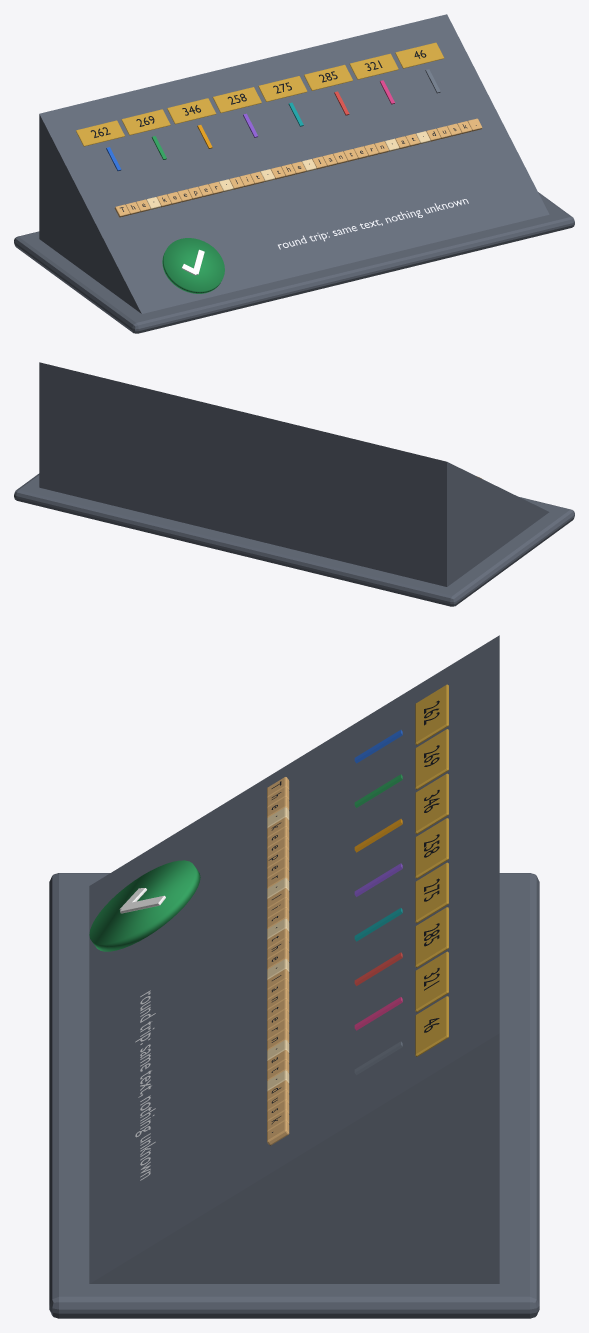
Rendered from decoder.glb.
3 views of the same model, one above another, from view 1: azimuth 30°, elevation 25°; view 2: azimuth 150°, elevation 25°; view 3: azimuth 270°, elevation 25° (orthographic). The views are drawn at different scales.
Parts seen in each view (by area): view 1: slope, stand, seal_disc, id6_p, id7_p, id1_p, id5_p, id0_p, id3_p, id4_p, id2_p, rt; view 2: slope, stand; view 3: slope, stand, seal_disc, id7_p, id6_p, id4_p, id5_p, id1_p, id2_p, id0_p, id3_p, rt.
Part boxes in pixels (x1,y1,x2,y2): slope: (39, 14, 549, 313); stand: (14, 192, 574, 333); seal_disc: (162, 238, 224, 293); id6_p: (349, 53, 398, 79); id7_p: (395, 42, 444, 68); id1_p: (121, 109, 170, 135); id5_p: (304, 64, 352, 90); id0_p: (76, 120, 124, 146); id3_p: (212, 87, 261, 112); id4_p: (258, 76, 307, 101); id2_p: (167, 98, 216, 124); rt: (278, 199, 468, 249); slope: (39, 362, 549, 586); stand: (14, 473, 574, 606); slope: (89, 635, 499, 1283); stand: (49, 873, 539, 1318); seal_disc: (89, 860, 200, 951); id7_p: (415, 996, 448, 1056); id6_p: (415, 951, 448, 1012); id4_p: (415, 862, 448, 923); id5_p: (415, 907, 448, 967); id1_p: (415, 729, 448, 789); id2_p: (415, 773, 448, 834); id0_p: (415, 684, 448, 745); id3_p: (415, 818, 448, 878); rt: (135, 990, 155, 1180).
Bounding box in the file's own units: 1.28 × 0.3767 × 0.6141.
